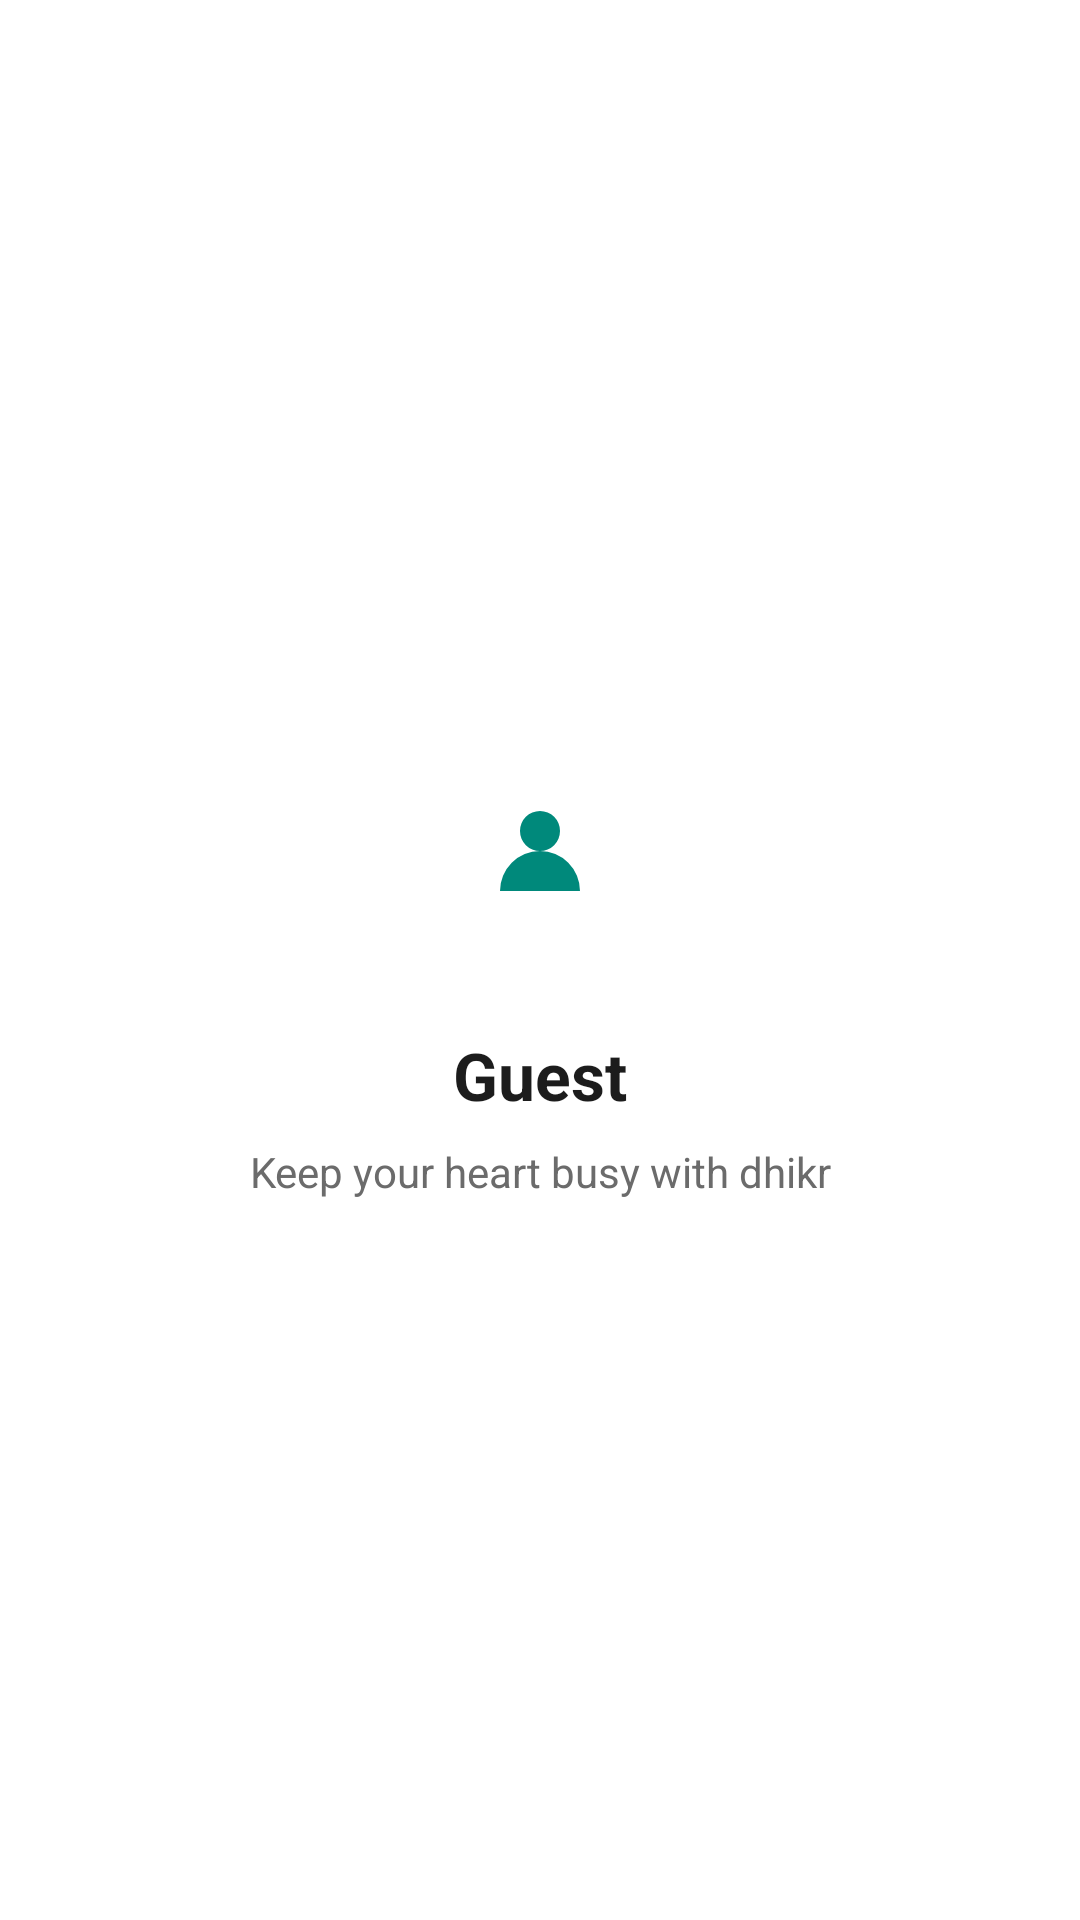

Screen size 1080px×1920px. Icon name, then its center in pixels as (x=x, y=y):
profile: (x=540, y=851)
